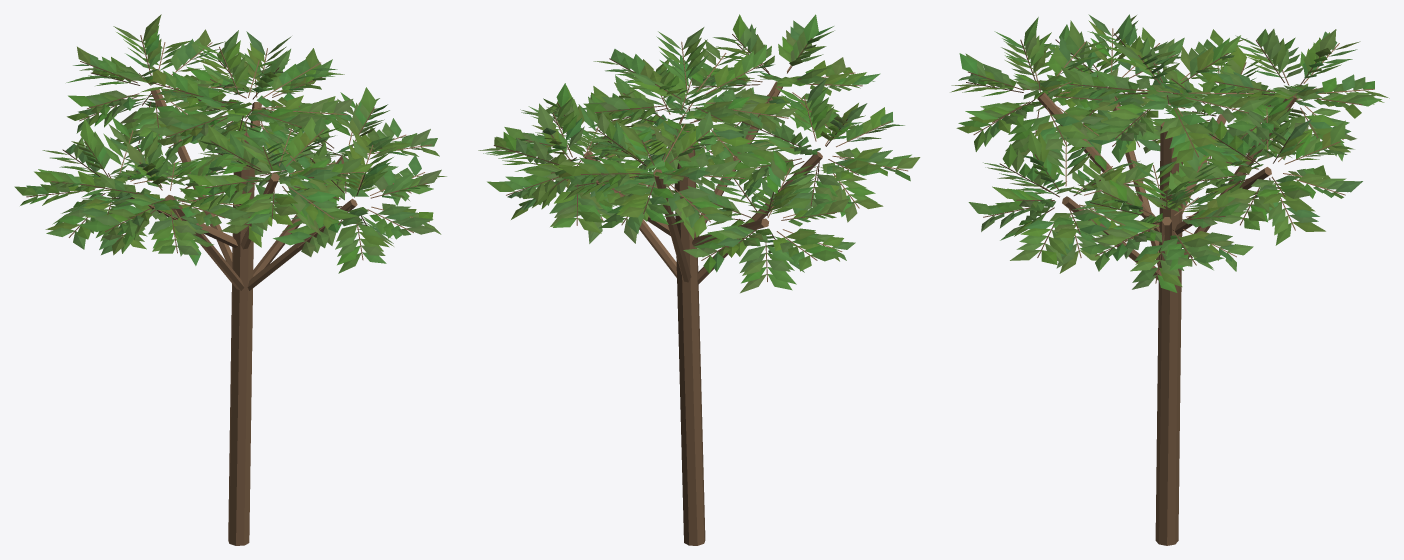
File: HighlandShadeTreeNear.glb
The picture shows the model from 3 angles, left to right: view 1: azimuth 30°, elevation 25°; view 2: azimuth 150°, elevation 25°; view 3: azimuth 270°, elevation 25°; orthographic projection. The views are drawn at different scales.
Visible parts, largest first — view 1: HighlandShadeTreeNear_Highlands_Shade_Leaf_Detail, HighlandShadeTreeNear_Highlands_Tree_Bark; view 2: HighlandShadeTreeNear_Highlands_Shade_Leaf_Detail, HighlandShadeTreeNear_Highlands_Tree_Bark; view 3: HighlandShadeTreeNear_Highlands_Shade_Leaf_Detail, HighlandShadeTreeNear_Highlands_Tree_Bark.
Boxes of the visible parts, x1,y1,x2,y2 form: HighlandShadeTreeNear_Highlands_Shade_Leaf_Detail: (14, 14, 446, 273); HighlandShadeTreeNear_Highlands_Tree_Bark: (26, 35, 432, 545); HighlandShadeTreeNear_Highlands_Shade_Leaf_Detail: (478, 14, 920, 293); HighlandShadeTreeNear_Highlands_Tree_Bark: (493, 34, 907, 545); HighlandShadeTreeNear_Highlands_Shade_Leaf_Detail: (950, 14, 1389, 292); HighlandShadeTreeNear_Highlands_Tree_Bark: (966, 28, 1374, 545).
Bounding box in the file's own units: 9.17 × 11.32 × 8.85.
